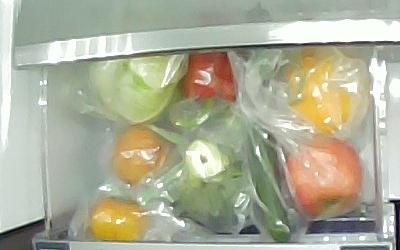apple_vinyl: (284, 136, 364, 220)
broccoli_vinyl: (164, 137, 251, 232)
cucumber_vinyl: (247, 48, 292, 242)
grapefruit_vinyl: (284, 54, 353, 134)
lettuce_vinyl: (86, 53, 185, 125)
paprika_vinyl: (178, 52, 238, 128)
peach_vinyl: (112, 126, 169, 184)
persimmon_vinyl: (90, 197, 149, 241)
